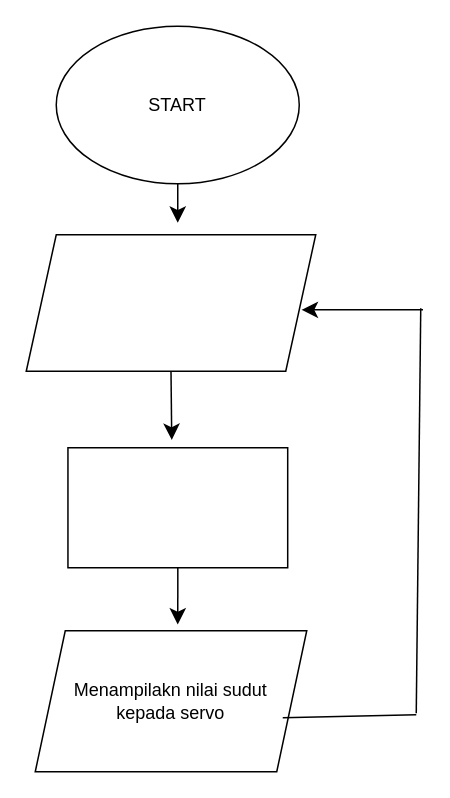
Some shapes in this 450 by 798 pixel diagram are drawn without their labels. Here are the shapes that lost their labels. From the top down, the box of each, then its label:
(25, 233, 316, 371): Pilih nilai terhadap analog Potensio (0-10240)
(66, 446, 288, 568): Memgubah nilai analog menjadi nilai sudut ( tegangan ) (0-255)
